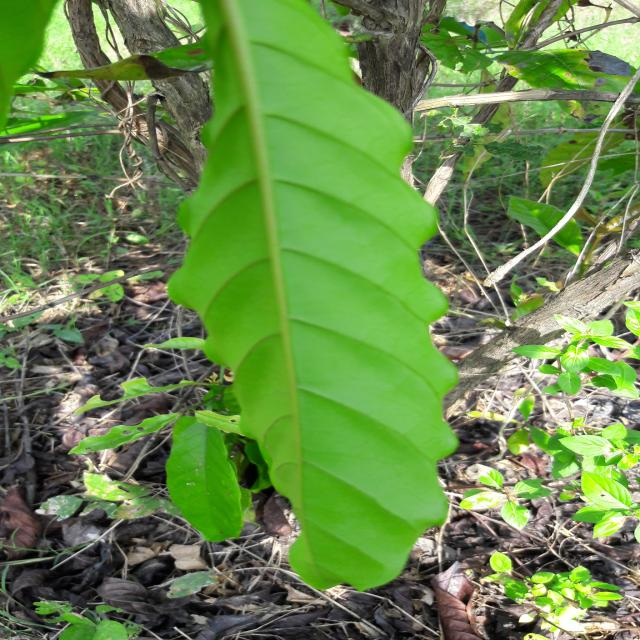Sanas: (168, 0, 459, 593)
